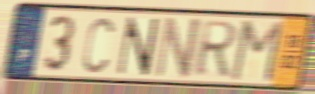3: (41, 14, 76, 74)
C: (81, 15, 116, 75)
M: (228, 19, 286, 85)
N: (152, 14, 203, 80), (115, 15, 163, 77)
R: (192, 19, 240, 79)
